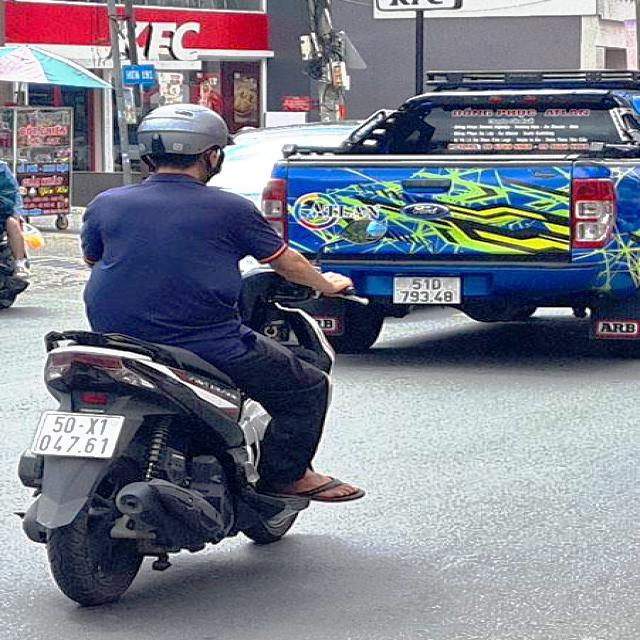license_plate: (34, 410, 124, 457), (393, 277, 458, 305)
